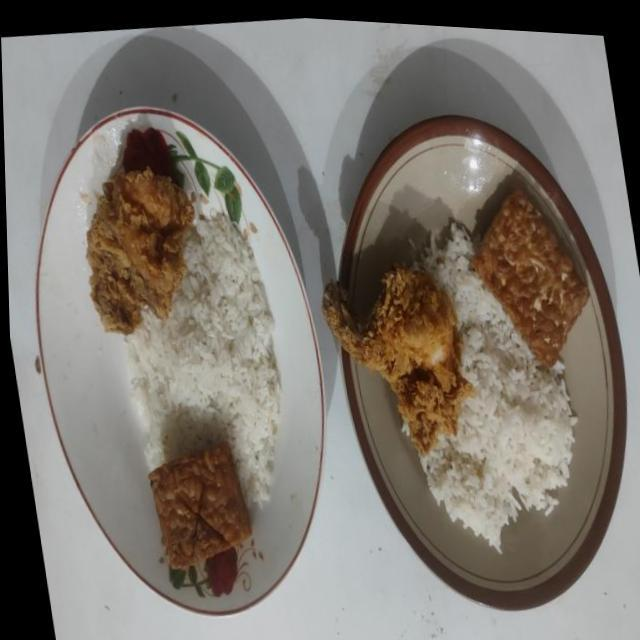nasi_putih: (421, 223, 576, 552), (125, 215, 282, 506)
tempe_goreng: (471, 190, 589, 366), (148, 444, 251, 568)
